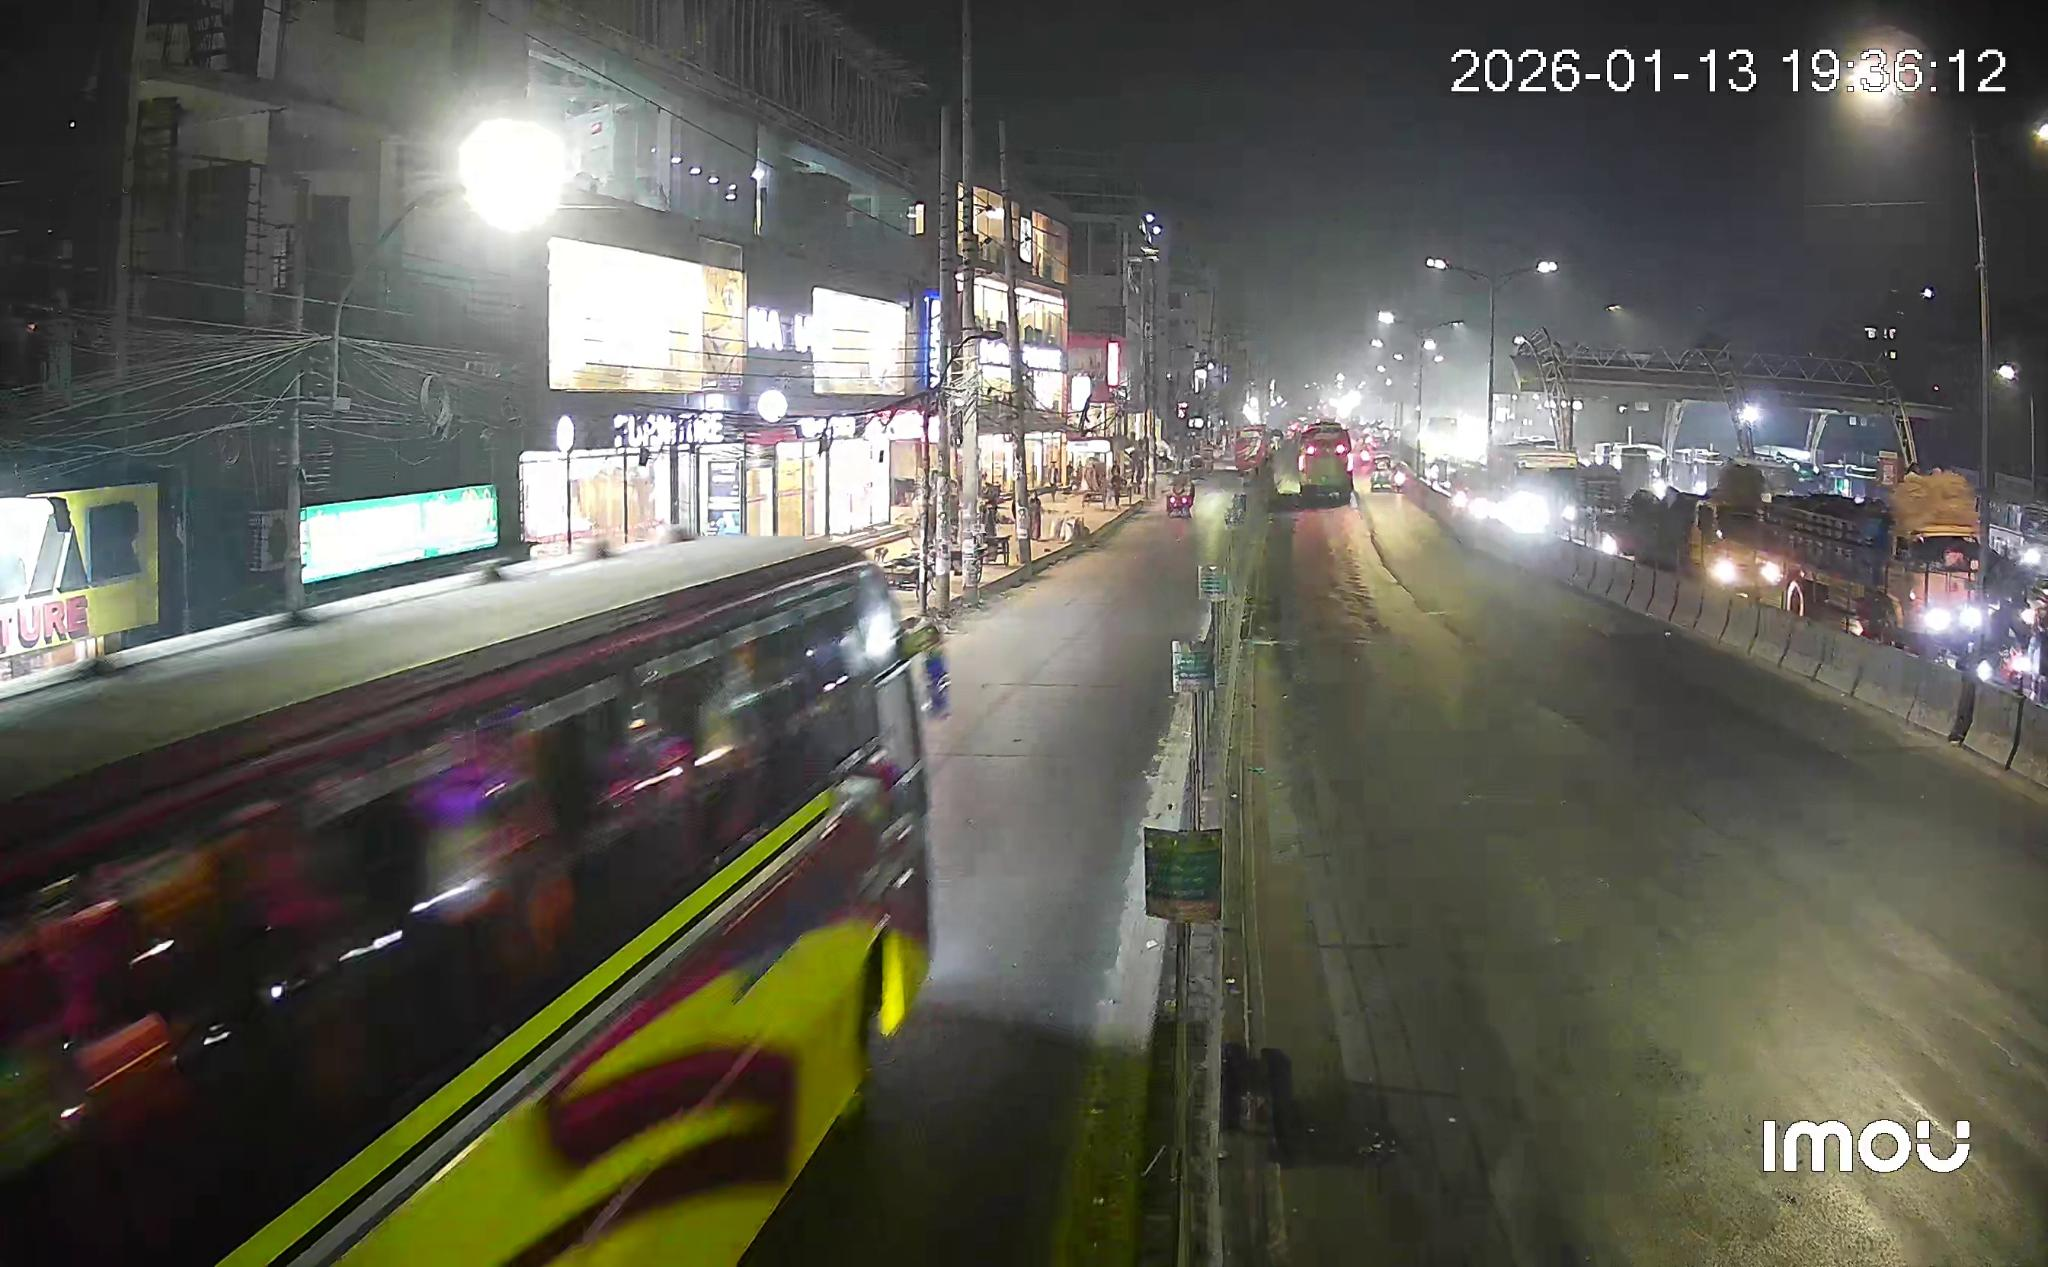Bus: (0, 538, 944, 1267), (1292, 418, 1375, 505)
